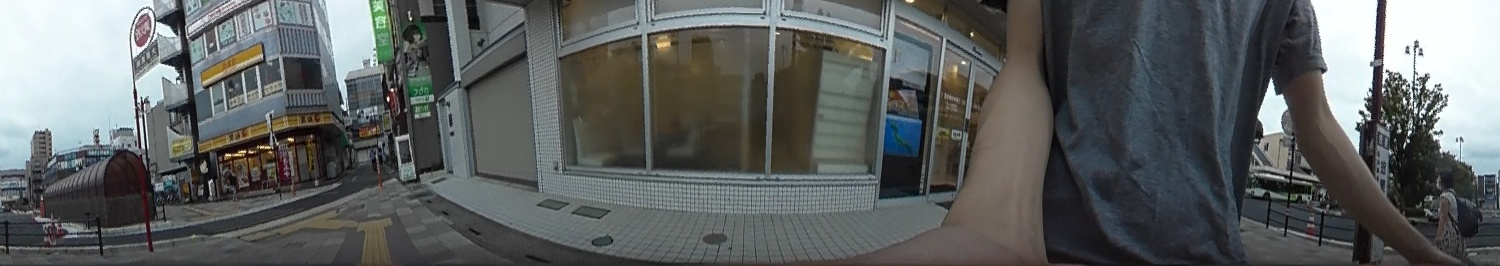difficult_person: (221, 166, 236, 193)
person: (1430, 165, 1473, 257)
